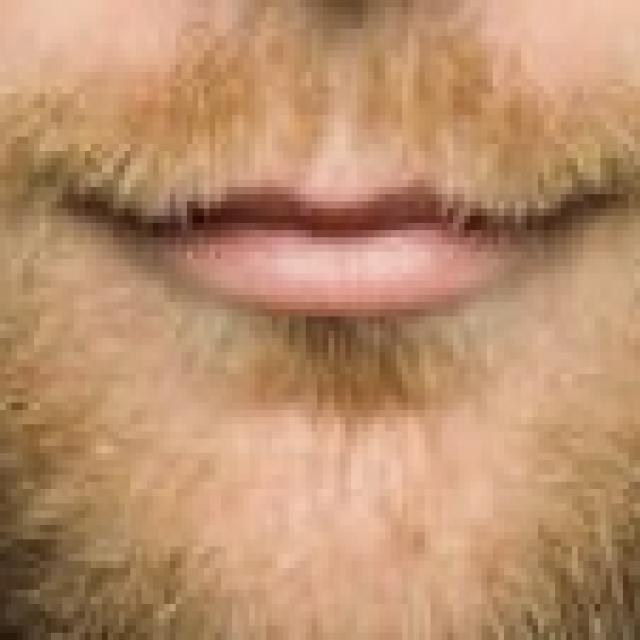closed-mouth: (56, 151, 634, 324)
